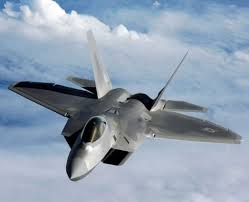fighter: (8, 29, 242, 183)
